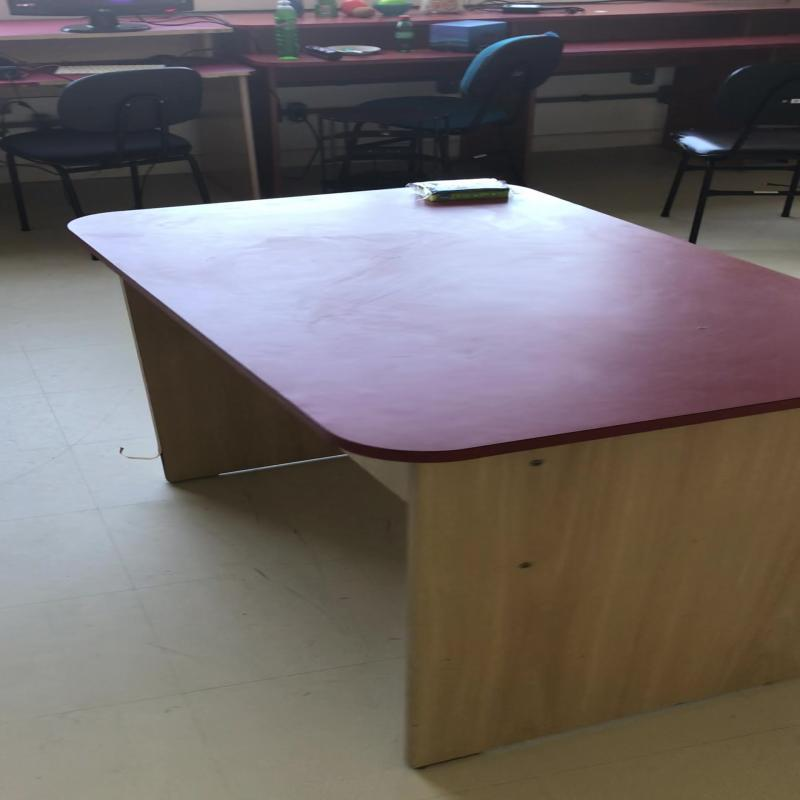sponge: (404, 176, 510, 201)
